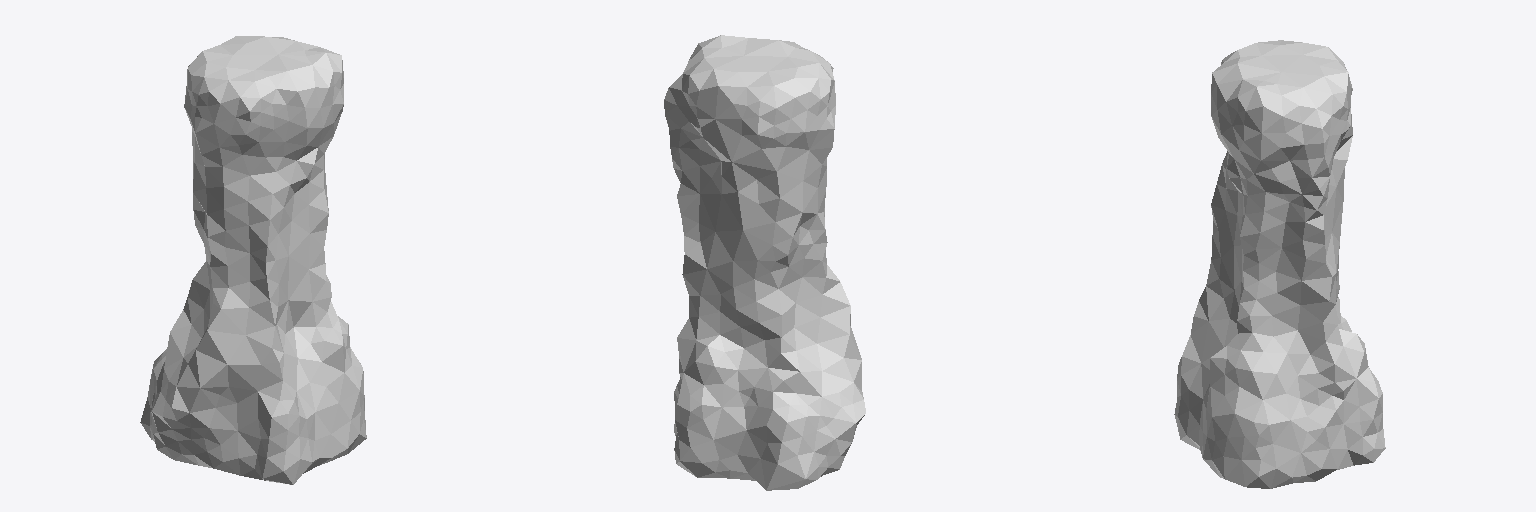
Rendered from RockSet05A.obj.
3 views of the same model, side by side, from view 1: azimuth 30°, elevation 25°; view 2: azimuth 150°, elevation 25°; view 3: azimuth 270°, elevation 25° (orthographic).
Visible parts, largest first — view 1: RockSet05A; view 2: RockSet05A; view 3: RockSet05A.
Boxes of the visible parts, x1,y1,x2,y2 form: RockSet05A: [140, 36, 366, 484]; RockSet05A: [664, 35, 865, 490]; RockSet05A: [1174, 40, 1385, 488].
Bounding box in the file's own units: 11.21 × 22.06 × 10.67.